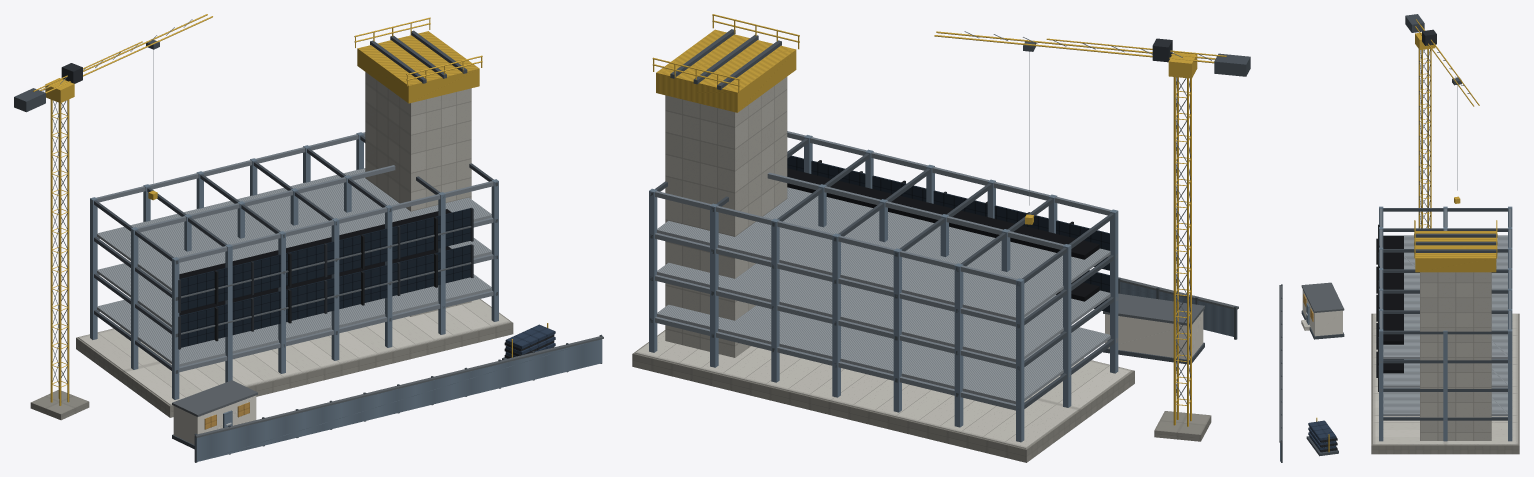
Rendered from el-5-construction.glb.
The picture shows the model from 3 angles, left to right: view 1: azimuth 30°, elevation 25°; view 2: azimuth 150°, elevation 25°; view 3: azimuth 270°, elevation 25°; orthographic projection. The views are drawn at different scales.
Bounding box in the file's own units: 44.59 × 28.75 × 23.52.
23 materials, 14 textured.
